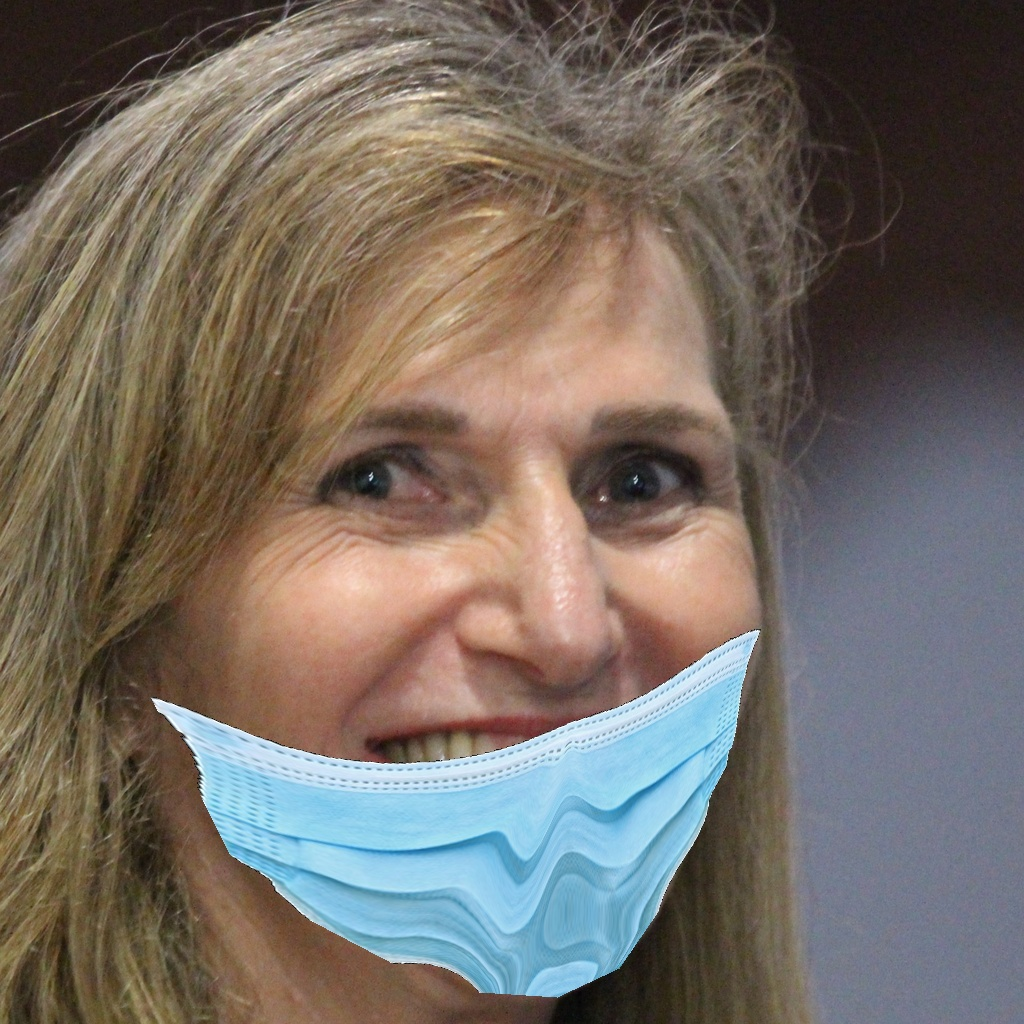mascarilla_mal_puesta: (197, 283, 789, 988)
